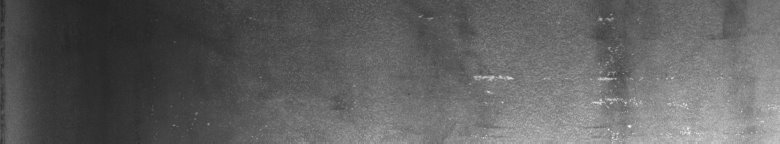hc: (590, 14, 682, 128)
